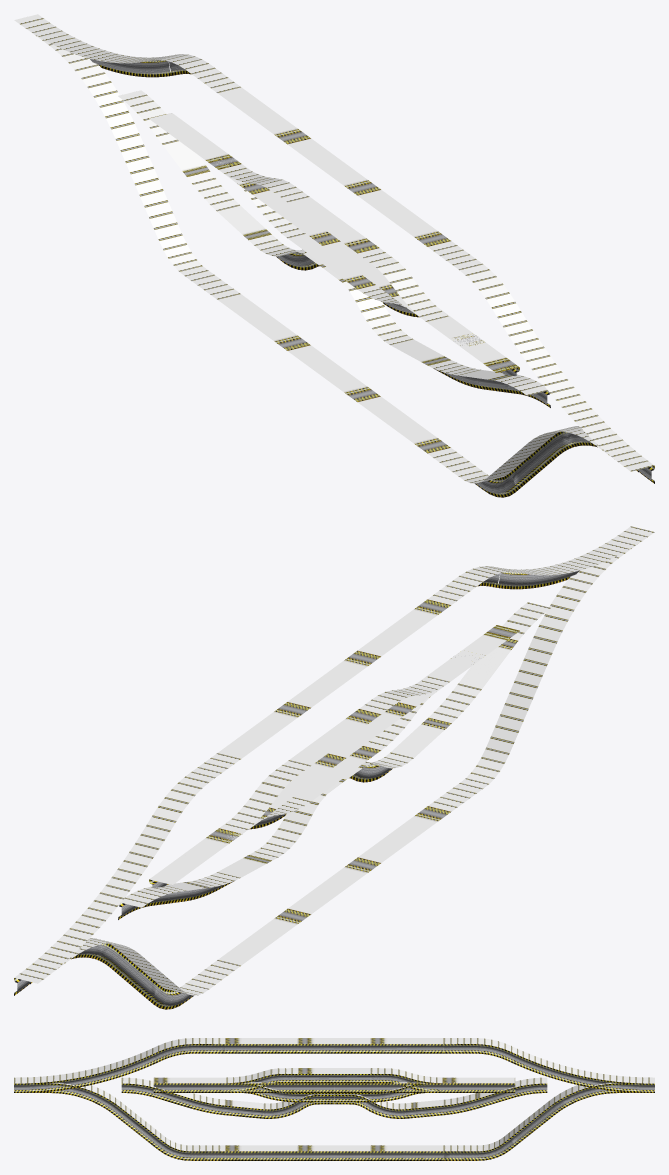
The model's file is tracks.fbx.
3 views of the same model, one above another, from view 1: azimuth 30°, elevation 25°; view 2: azimuth 150°, elevation 25°; view 3: azimuth 270°, elevation 25° (orthographic). The views are drawn at different scales.
Parts seen in each view (by area): view 1: track5, track6, track3, track1, track2, track4; view 2: track5, track6, track3, track1, track2, track4; view 3: track5, track6, track3, track1, track4, track2.
Part boxes in pixels (box(x1,y1,x2,y2)): track5: box(14, 14, 654, 483); track6: box(31, 32, 638, 497); track3: box(118, 90, 550, 407); track1: box(149, 113, 518, 375); track2: box(152, 113, 519, 375); track4: box(186, 144, 484, 345); track5: box(14, 526, 654, 995); track6: box(30, 544, 637, 1009); track3: box(118, 602, 550, 919); track1: box(150, 625, 519, 887); track2: box(149, 625, 517, 887); track4: box(183, 651, 485, 856); track5: box(14, 1038, 654, 1092); track6: box(30, 1083, 638, 1160); track3: box(121, 1077, 547, 1118); track1: box(153, 1068, 515, 1090); track4: box(189, 1082, 479, 1092); track2: box(153, 1083, 515, 1102).
Bounding box in the file's own units: 20.78 × 183 × 910.
